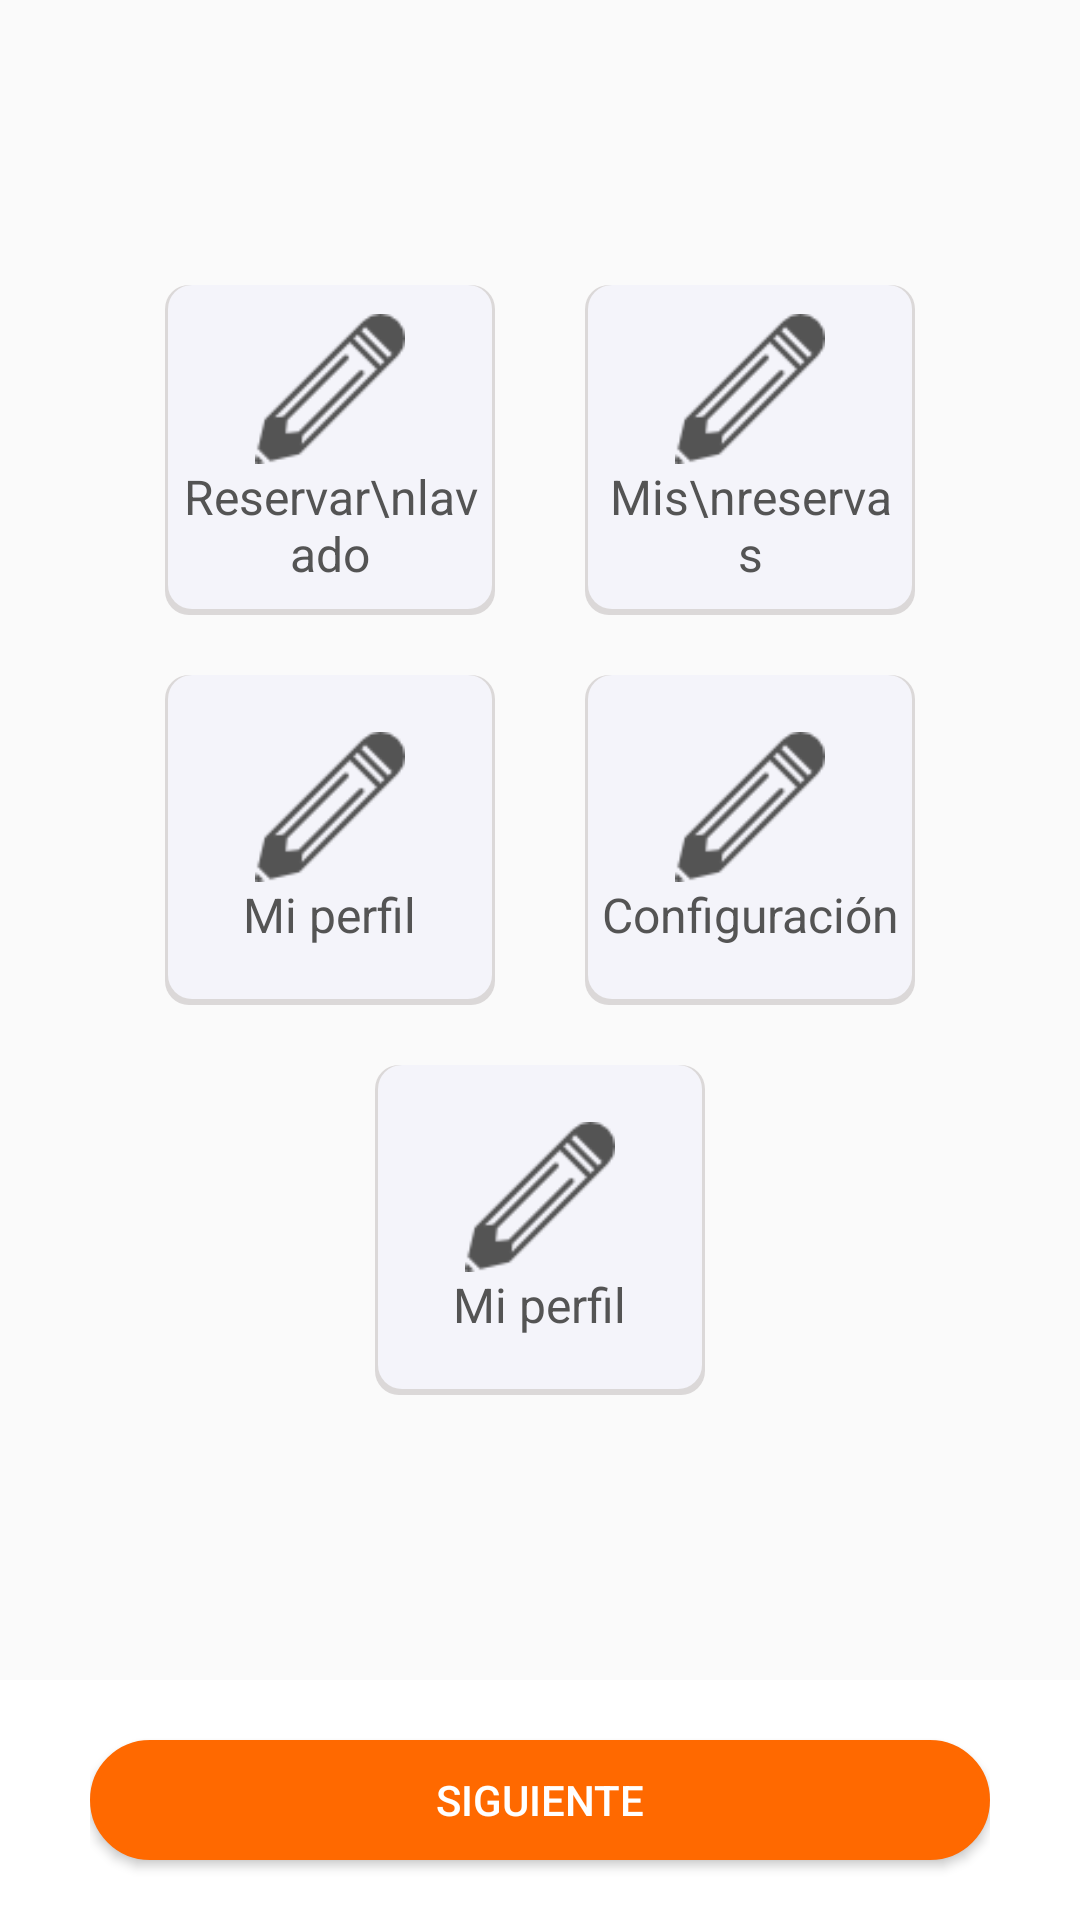

Icons on this 1080px x 1920px Android screen, each with its box as (x1, y1, x2, y2):
edit: (255, 314, 405, 464), (675, 314, 825, 464), (255, 732, 405, 882), (675, 732, 825, 882), (465, 1122, 615, 1272)
